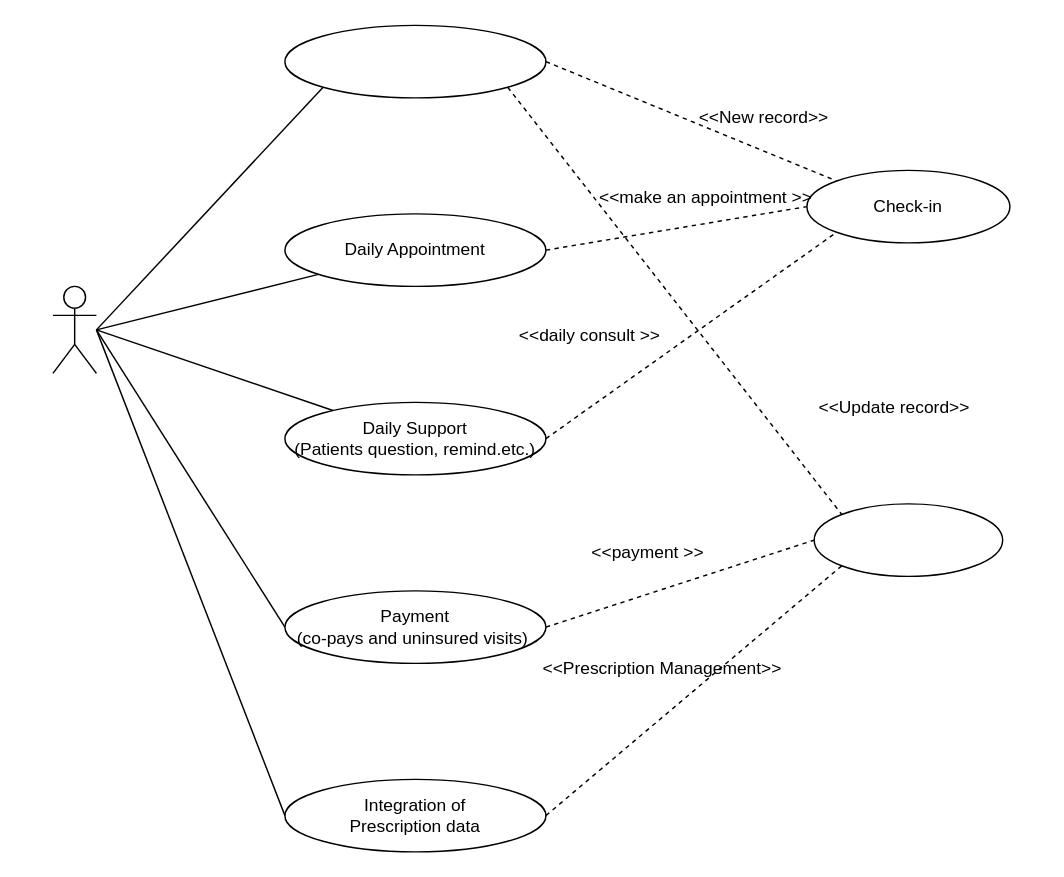
Some shapes in this 1064 by 877 pixel diagram are drawn without their labels. The shapes that lost their labels are listed below. From the top down, each one's centre as x and y in pixels, then its label:
the point at 414,61: Maintain patient records and account
the point at 73,329: Receptionlist
the point at 908,539: Check-out
